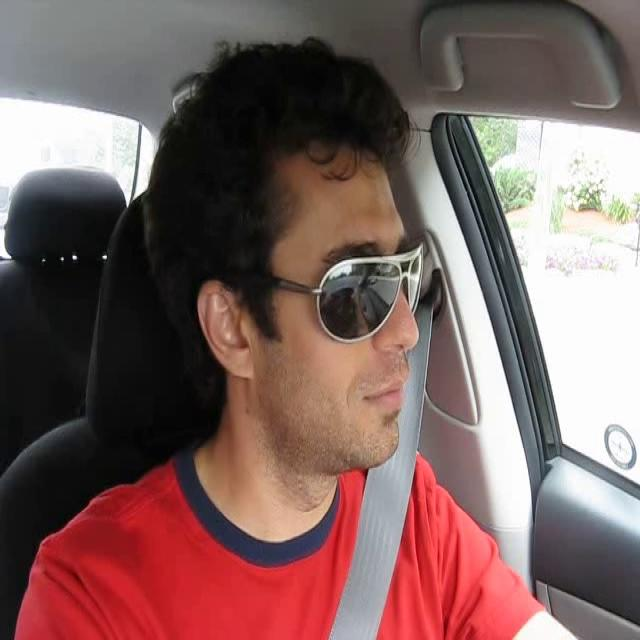close: (358, 363, 414, 419)
